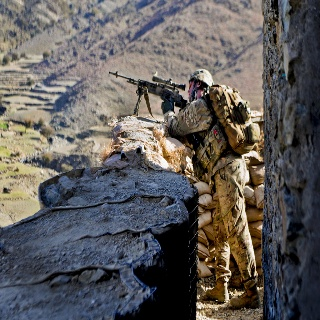rifle: (106, 66, 187, 117)
